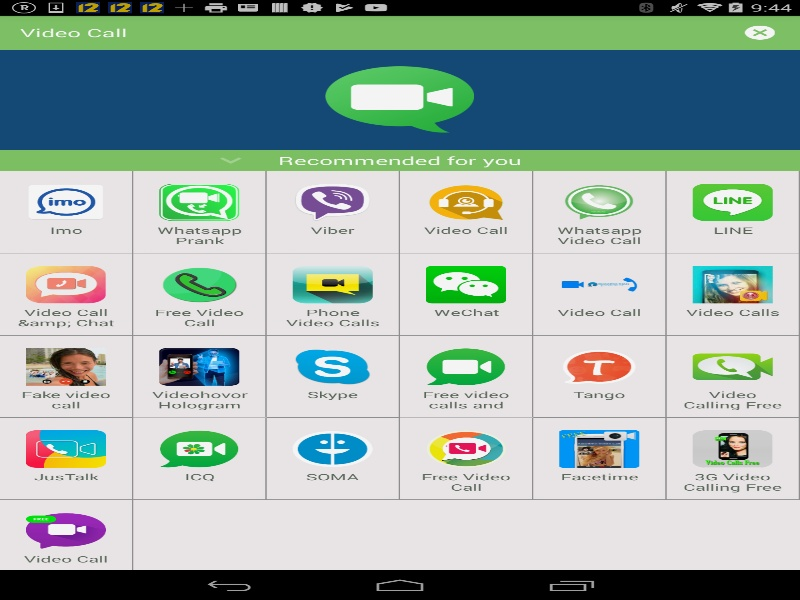Button: (277, 380, 394, 442), (405, 380, 522, 442), (533, 380, 650, 442), (568, 330, 768, 352)
Input: (82, 20, 706, 47)
